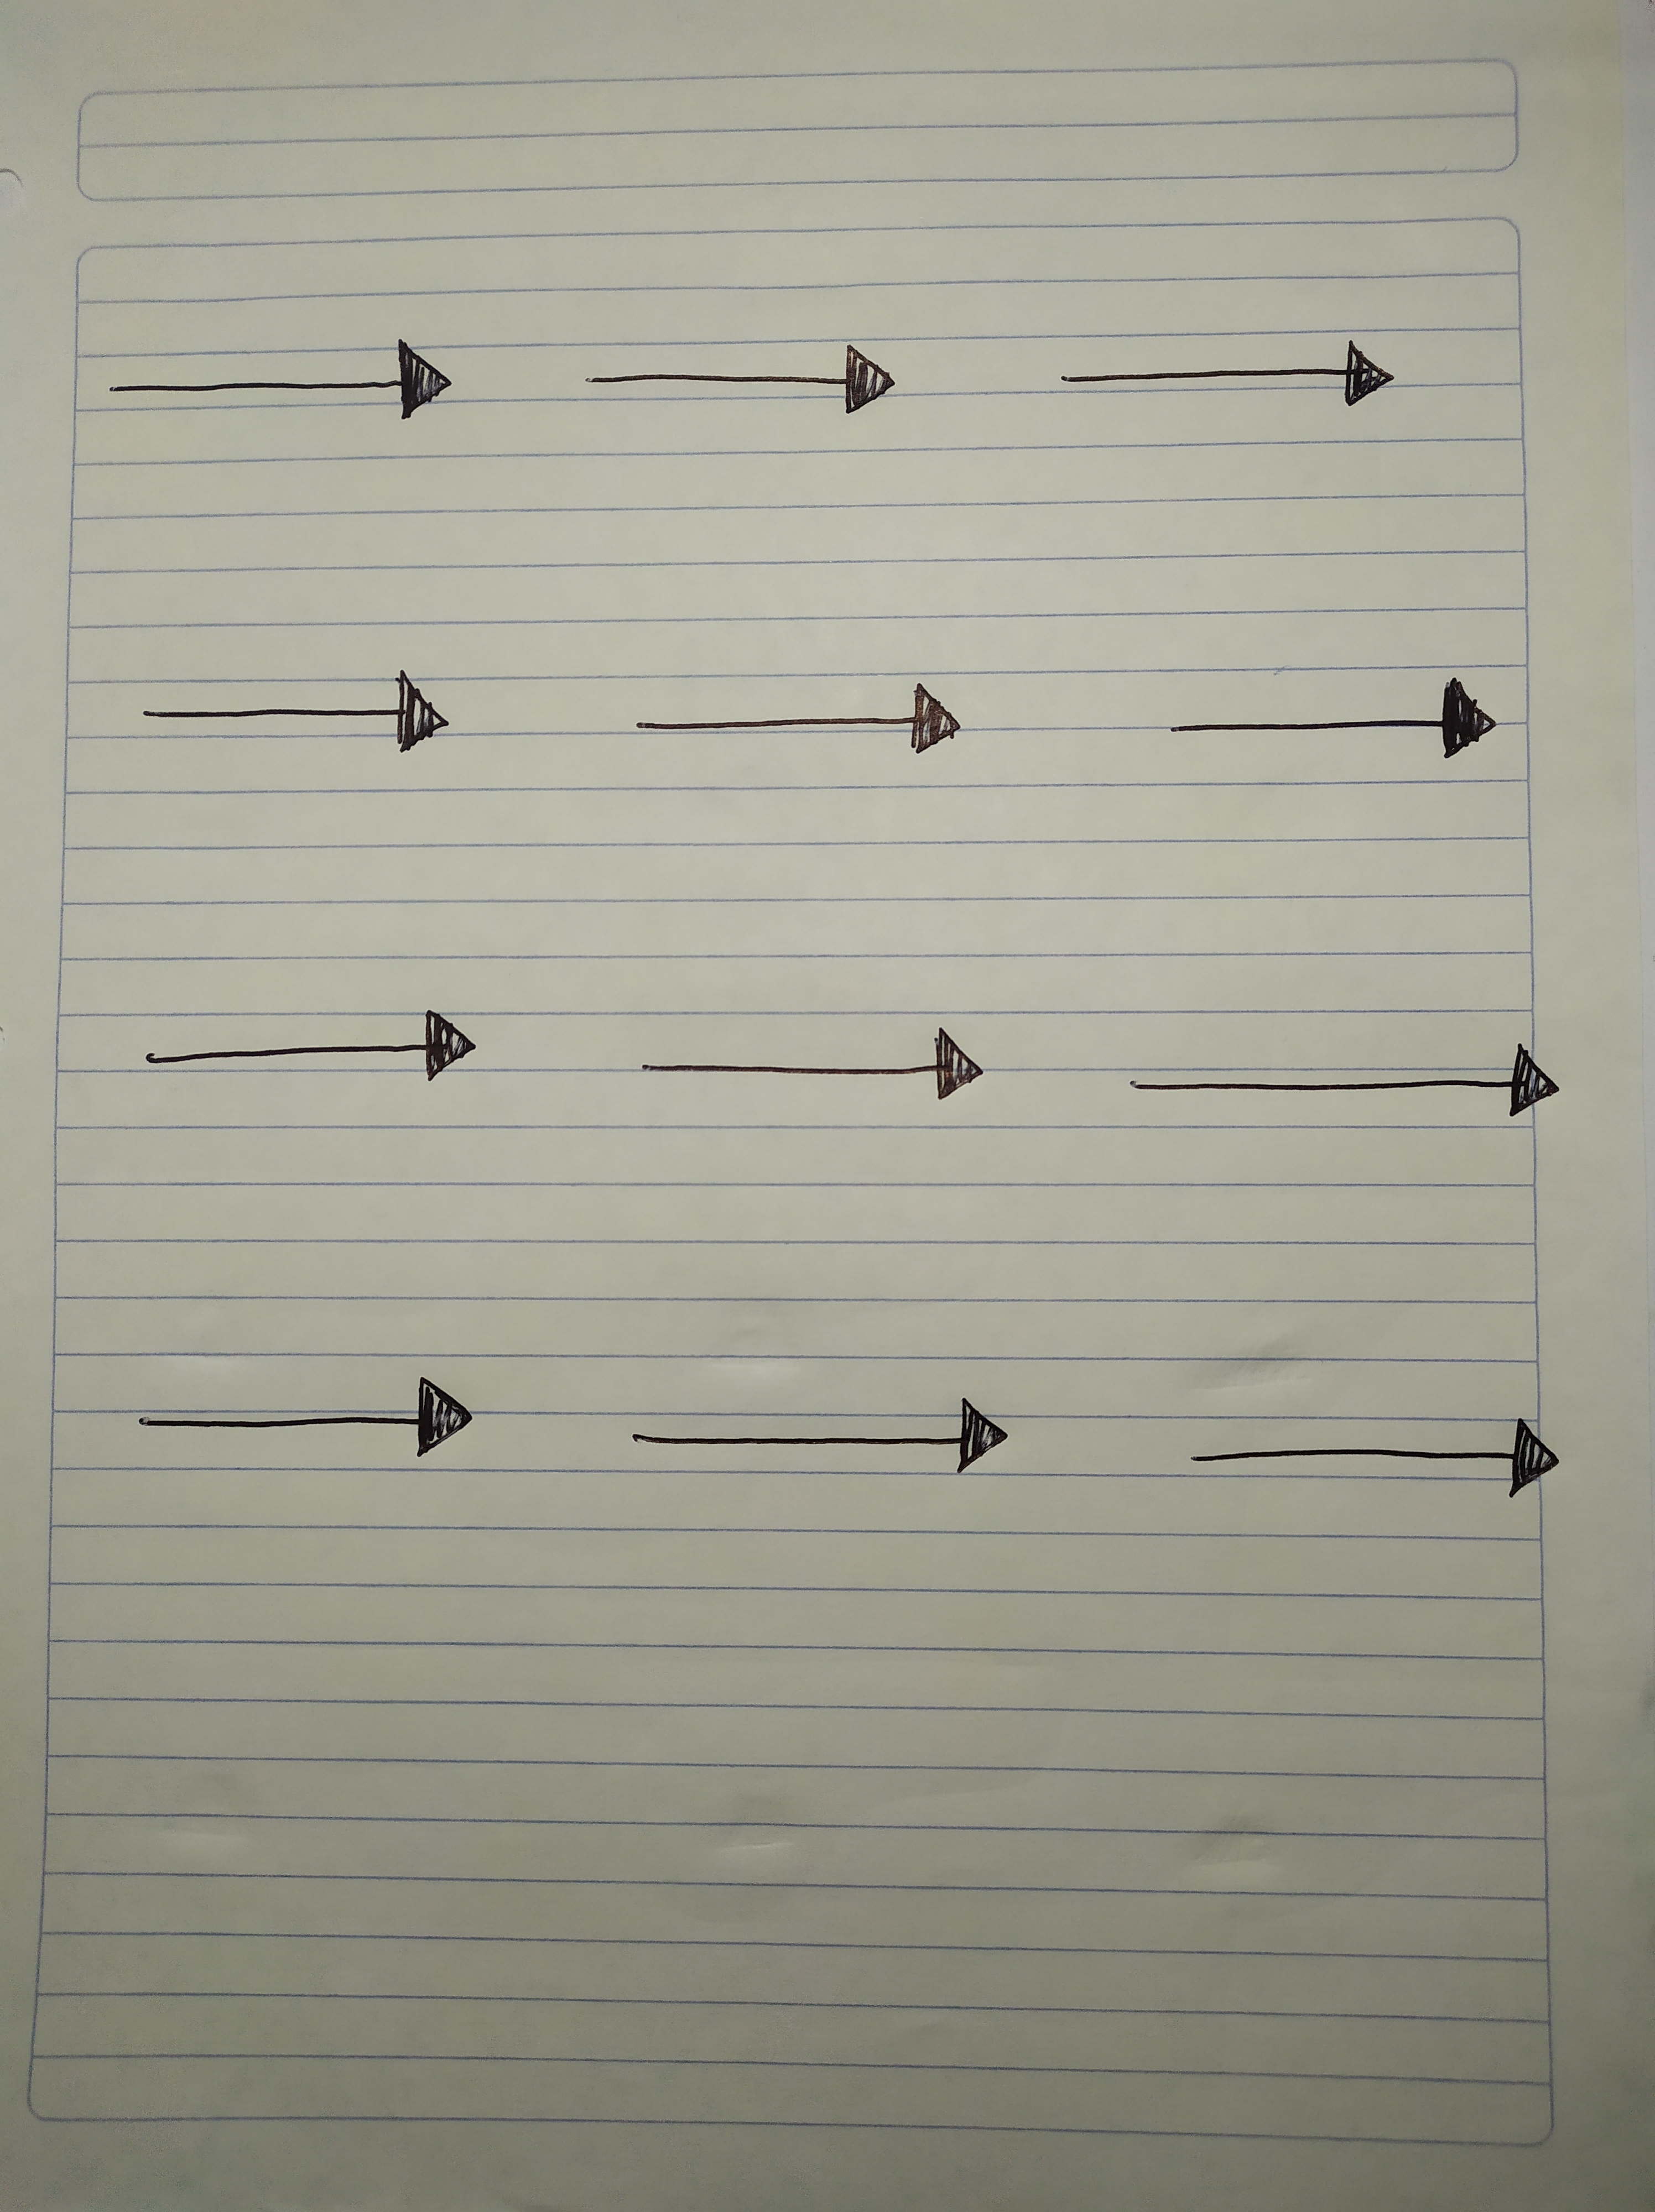arrow_line_right: (90, 1345, 499, 1501), (1147, 1378, 1577, 1519), (602, 1371, 1050, 1498), (593, 653, 996, 792), (1099, 1027, 1580, 1143), (1137, 659, 1528, 789), (1015, 315, 1420, 426), (110, 660, 504, 770), (610, 1017, 1005, 1126), (118, 997, 527, 1102), (90, 327, 464, 433), (567, 332, 928, 433)
